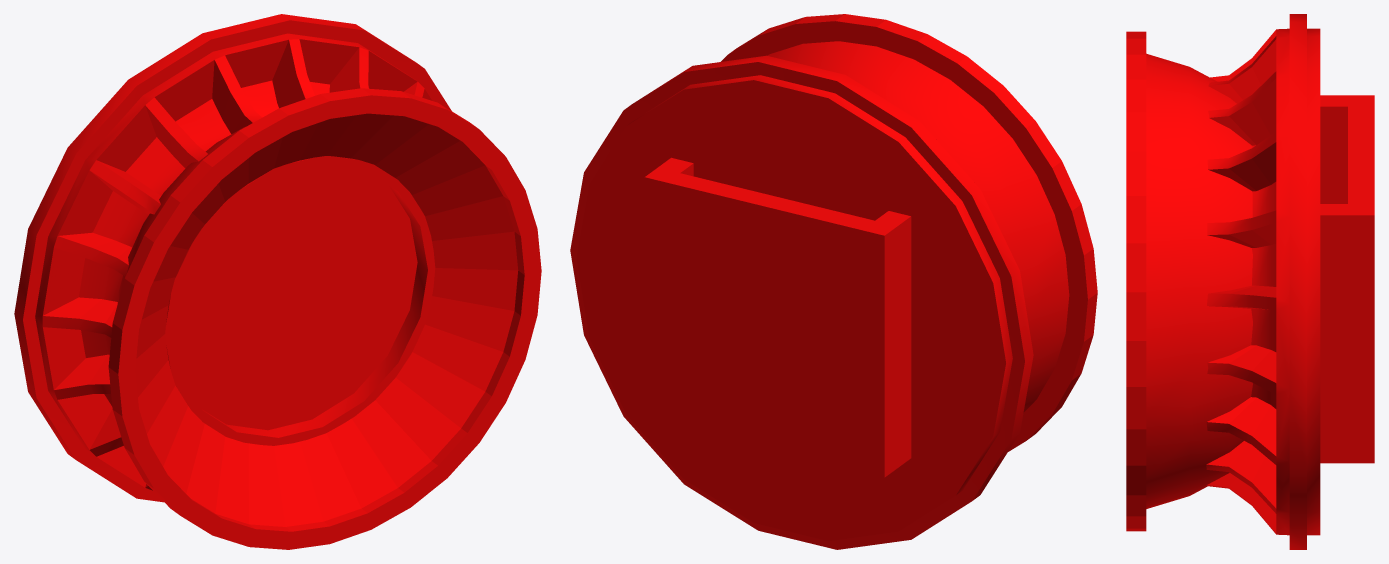
Rendered from Lens.fbx.
The picture shows the model from 3 angles, left to right: view 1: azimuth 30°, elevation 25°; view 2: azimuth 150°, elevation 25°; view 3: azimuth 270°, elevation 25°; orthographic projection. The views are drawn at different scales.
Parts seen in each view (by area): view 1: Object001; view 2: Object001; view 3: Object001.
Part boxes in pixels (x1,y1,x2,y2): Object001: [14, 14, 541, 549]; Object001: [570, 14, 1097, 549]; Object001: [1126, 14, 1374, 549].
Size of the model in its own units: 127 by 125 by 58.65.
